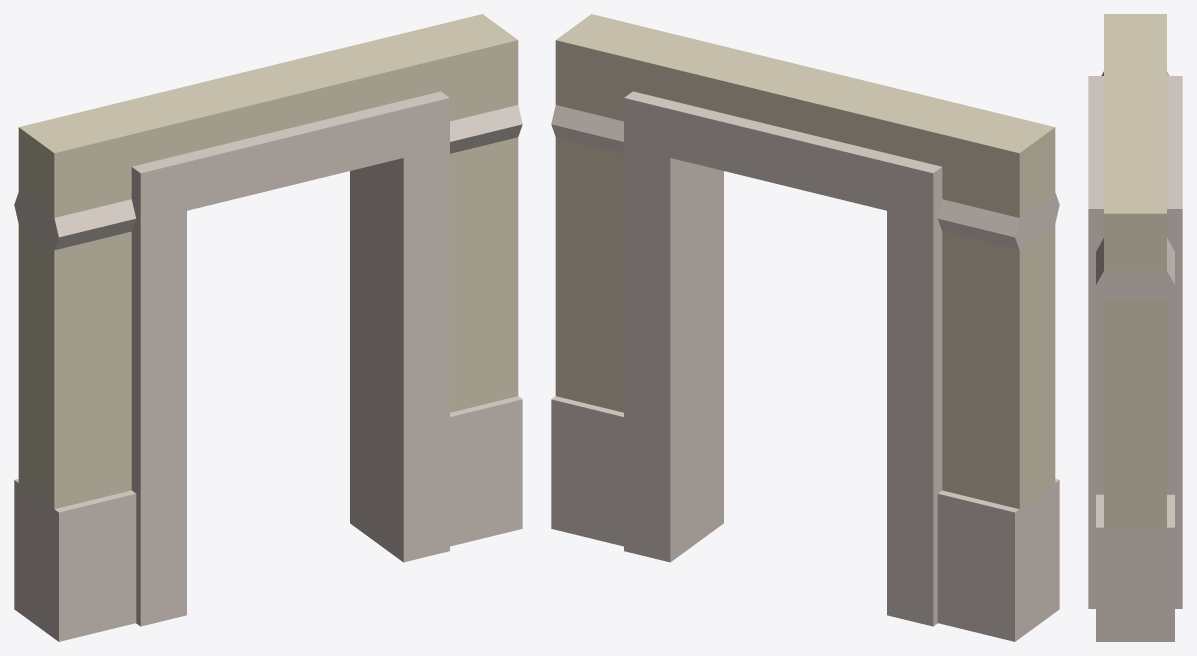
Rendered from roman_wall_door_2.fbx.
3 renders of one model, left to right at view 1: azimuth 30°, elevation 25°; view 2: azimuth 150°, elevation 25°; view 3: azimuth 270°, elevation 25°, orthographic. The views are drawn at different scales.
Parts seen in each view (by area): view 1: Cube.042; view 2: Cube.042; view 3: Cube.042.
Part boxes in pixels (x1,y1,x2,y2): Cube.042: [14, 14, 522, 641]; Cube.042: [551, 14, 1059, 641]; Cube.042: [1088, 14, 1182, 641].
Bounding box in the file's own units: 3 × 3 × 0.6.
